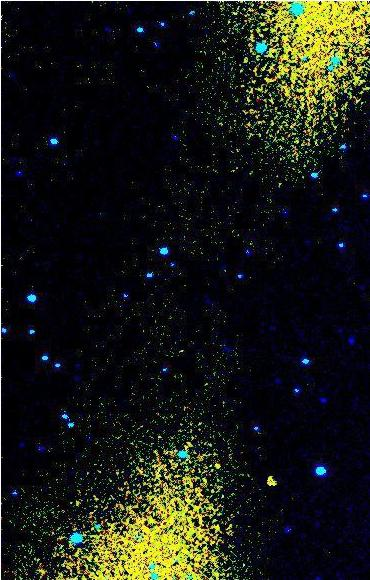star: (204, 451, 234, 481)
